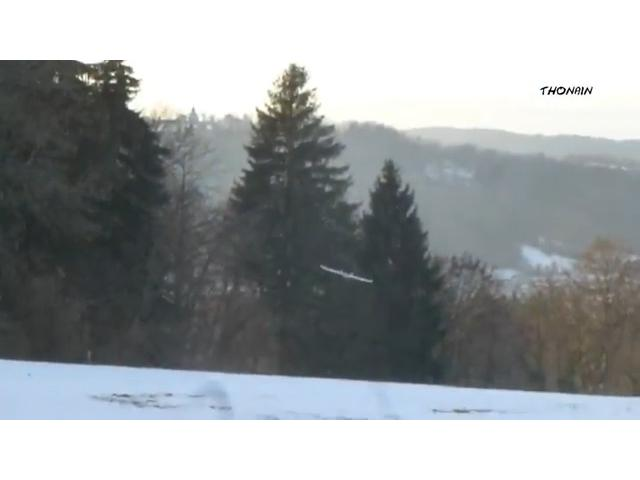Anti-Drone: (322, 266, 372, 284)
